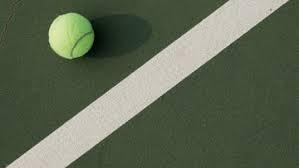tennis ball: (47, 13, 96, 59)
